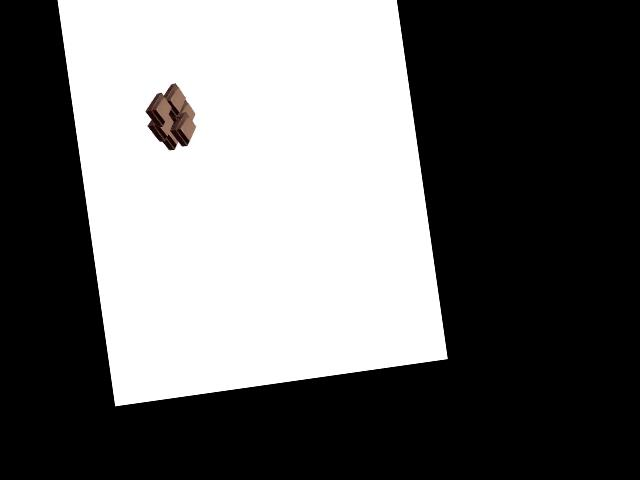chocolate: (144, 81, 202, 154)
